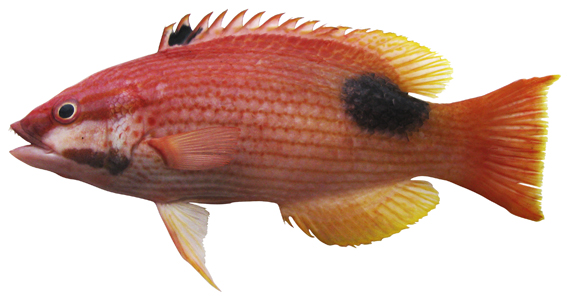fish: (8, 9, 562, 294)
